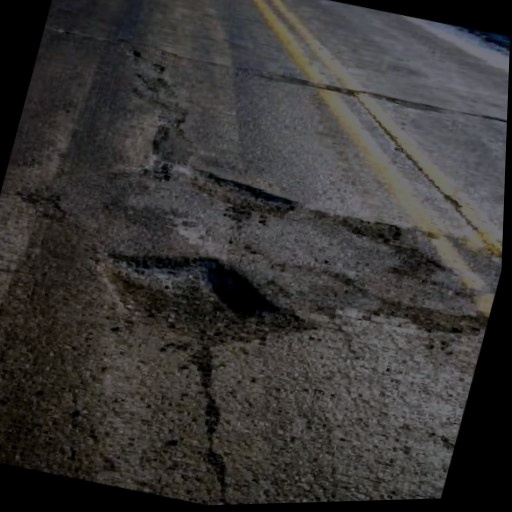pothole: (76, 227, 326, 373), (368, 285, 491, 349), (182, 163, 309, 224), (328, 206, 410, 248)
